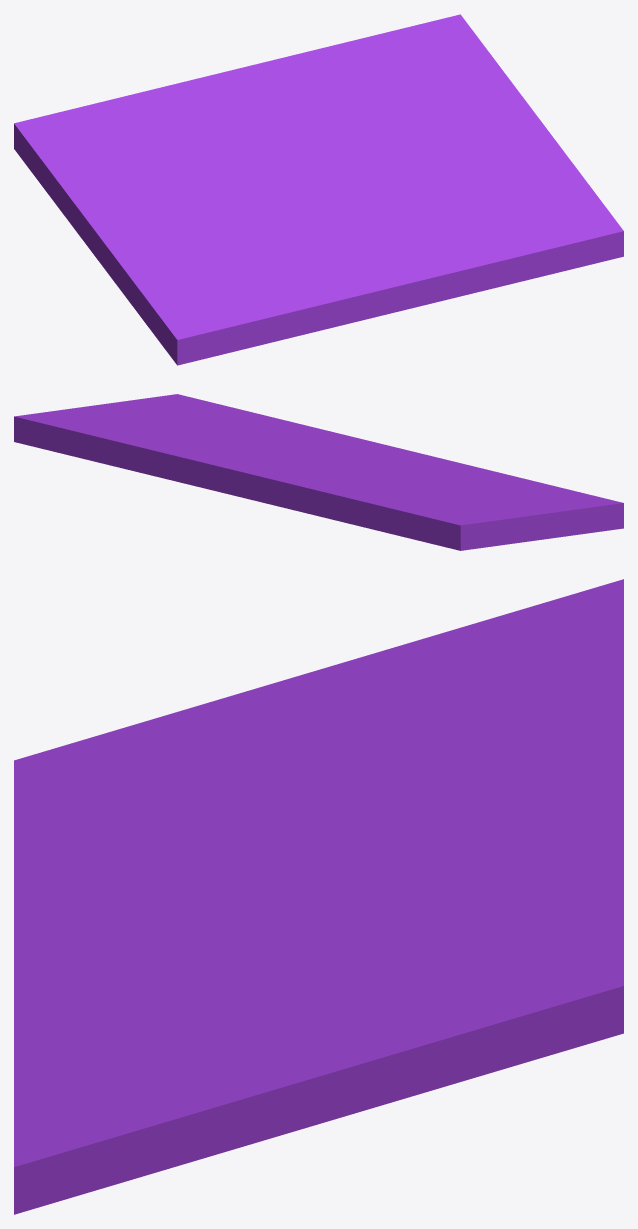
The model's file is Window_160_chunks.fbx.
3 renders of one model, top to bottom at view 1: azimuth 30°, elevation 25°; view 2: azimuth 150°, elevation 25°; view 3: azimuth 270°, elevation 25°, orthographic. The views are drawn at different scales.
Visible parts, largest first — view 1: Window_160_1, Window_160_2, Window_160_4, Window_160_5, Window_160_3, Window_160_6, Window_160_0; view 2: Window_160_2, Window_160_1, Window_160_4, Window_160_5, Window_160_3, Window_160_6, Window_160_0; view 3: Window_160_1, Window_160_2, Window_160_4, Window_160_5, Window_160_3, Window_160_6, Window_160_0.
Part boxes in pixels (x1,y1,x2,y2): Window_160_1: (258,14,623,263); Window_160_2: (14,64,303,317); Window_160_4: (308,185,594,313); Window_160_5: (144,257,389,365); Window_160_3: (141,198,303,320); Window_160_6: (284,197,329,259); Window_160_0: (281,151,343,204); Window_160_2: (214,461,590,550); Window_160_1: (14,394,311,490); Window_160_4: (218,404,416,463); Window_160_5: (412,451,623,532); Window_160_3: (357,464,591,533); Window_160_6: (352,462,443,472); Window_160_0: (296,454,377,469); Window_160_1: (14,801,623,1214); Window_160_2: (139,579,623,854); Window_160_4: (14,865,283,1129); Window_160_5: (14,725,149,952); Window_160_3: (133,723,278,861); Window_160_6: (116,850,278,893); Window_160_0: (275,841,390,897).
Size of the model in its own units: 1838 by 482 by 1165.
